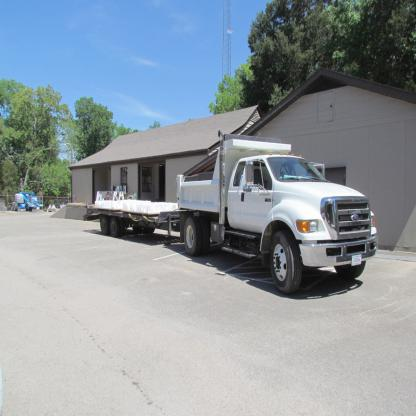Truck: (82, 129, 378, 294)
